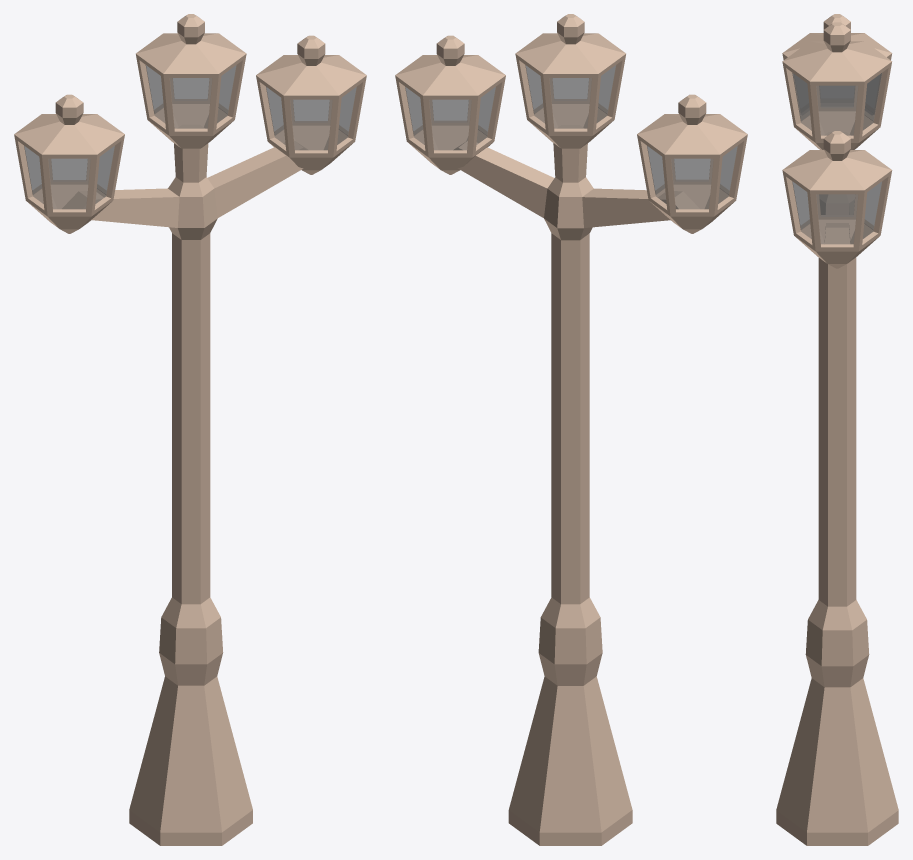
Rendered from street_light.fbx.
3 views of the same model, side by side, from view 1: azimuth 30°, elevation 25°; view 2: azimuth 150°, elevation 25°; view 3: azimuth 270°, elevation 25° (orthographic).
Parts seen in each view (by area): view 1: street_light; view 2: street_light; view 3: street_light.
Part boxes in pixels (x1,y1,x2,y2): street_light: (14, 14, 366, 845); street_light: (395, 14, 747, 845); street_light: (776, 14, 898, 845).
Bounding box in the file's own units: 158 × 374 × 52.04.
Materials: 2 (1 with a texture image).
